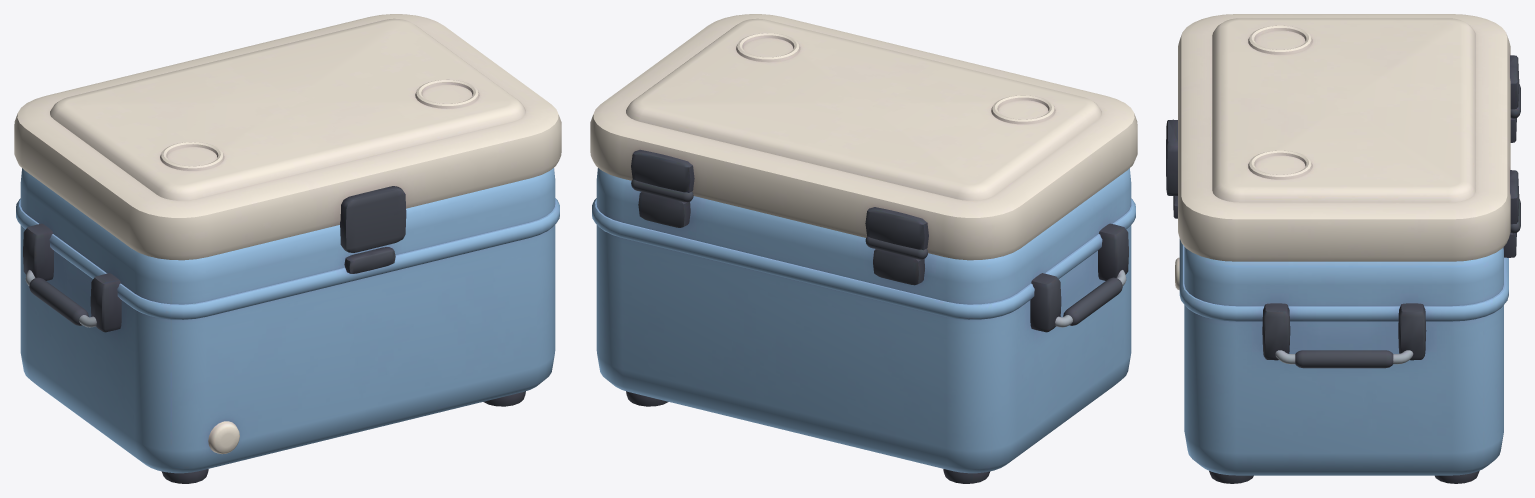
Rendered from cooler-box.glb.
3 renders of one model, left to right at view 1: azimuth 30°, elevation 25°; view 2: azimuth 150°, elevation 25°; view 3: azimuth 270°, elevation 25°, orthographic.
Parts seen in each view (by area): view 1: cooler-box_body, cooler-box_lid; view 2: cooler-box_body, cooler-box_lid; view 3: cooler-box_lid, cooler-box_body.
Part boxes in pixels (x1,y1,x2,y2): cooler-box_body: [16, 168, 559, 483]; cooler-box_lid: [14, 14, 561, 260]; cooler-box_body: [592, 168, 1135, 483]; cooler-box_lid: [590, 14, 1137, 260]; cooler-box_lid: [1166, 14, 1519, 261]; cooler-box_body: [1173, 84, 1520, 483].
Size of the model in its own units: 0.687 by 0.4095 by 0.4439.
2 materials, 2 textured.
